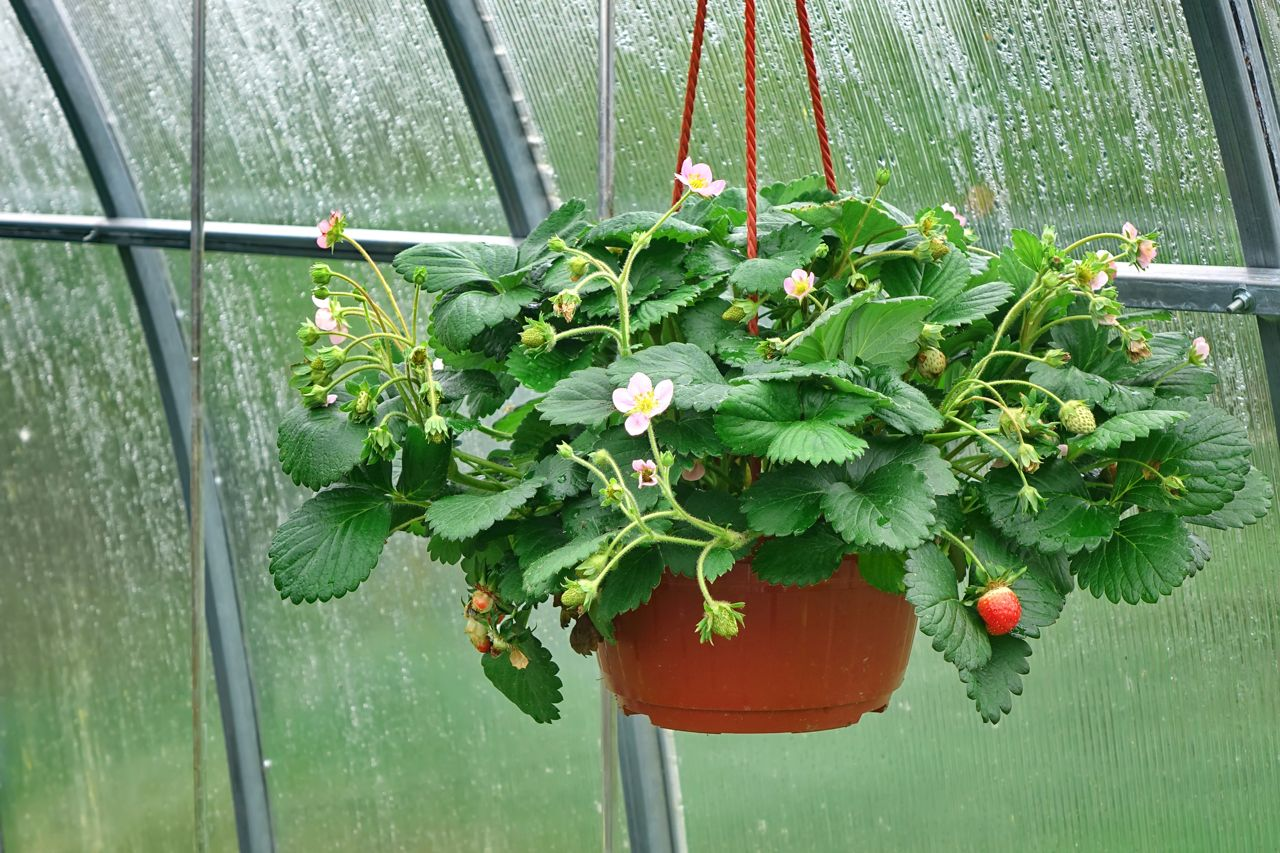ripe_strawberry: (977, 578, 1021, 637)
unripe_strawberry: (695, 599, 747, 645), (512, 315, 557, 361), (558, 576, 599, 618), (1057, 398, 1097, 438), (719, 295, 761, 329), (914, 345, 948, 381), (348, 382, 376, 421)
